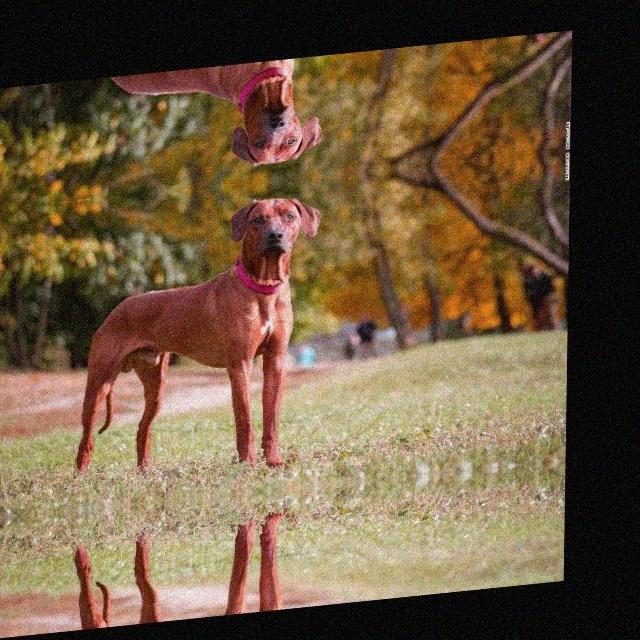dog: (222, 183, 331, 281), (224, 78, 332, 176)
